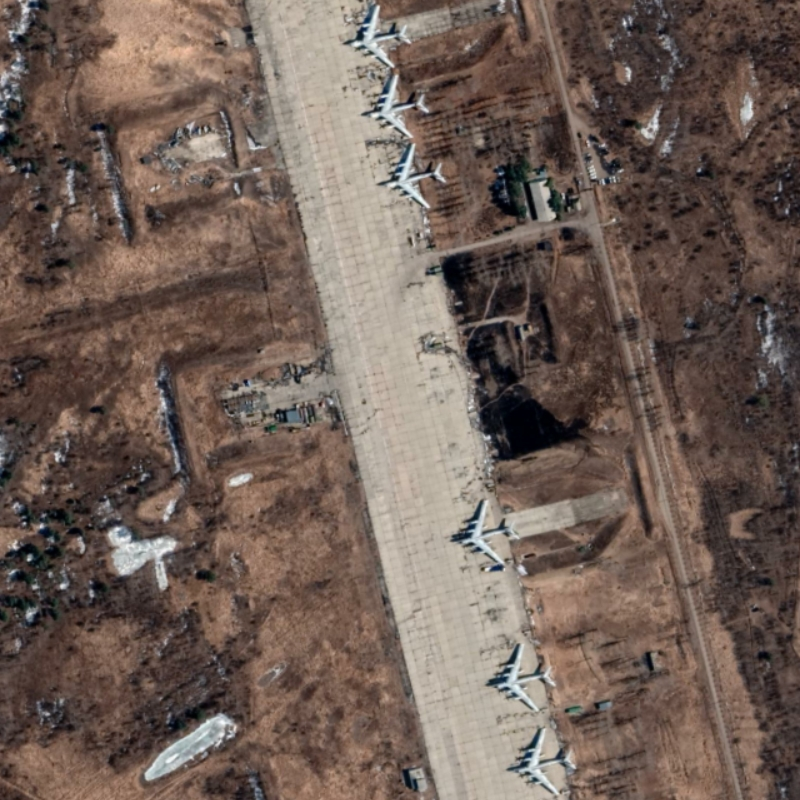A17: (492, 642, 558, 713), (512, 727, 578, 797), (381, 142, 448, 210), (456, 498, 522, 565), (348, 3, 413, 69), (366, 73, 430, 139)
